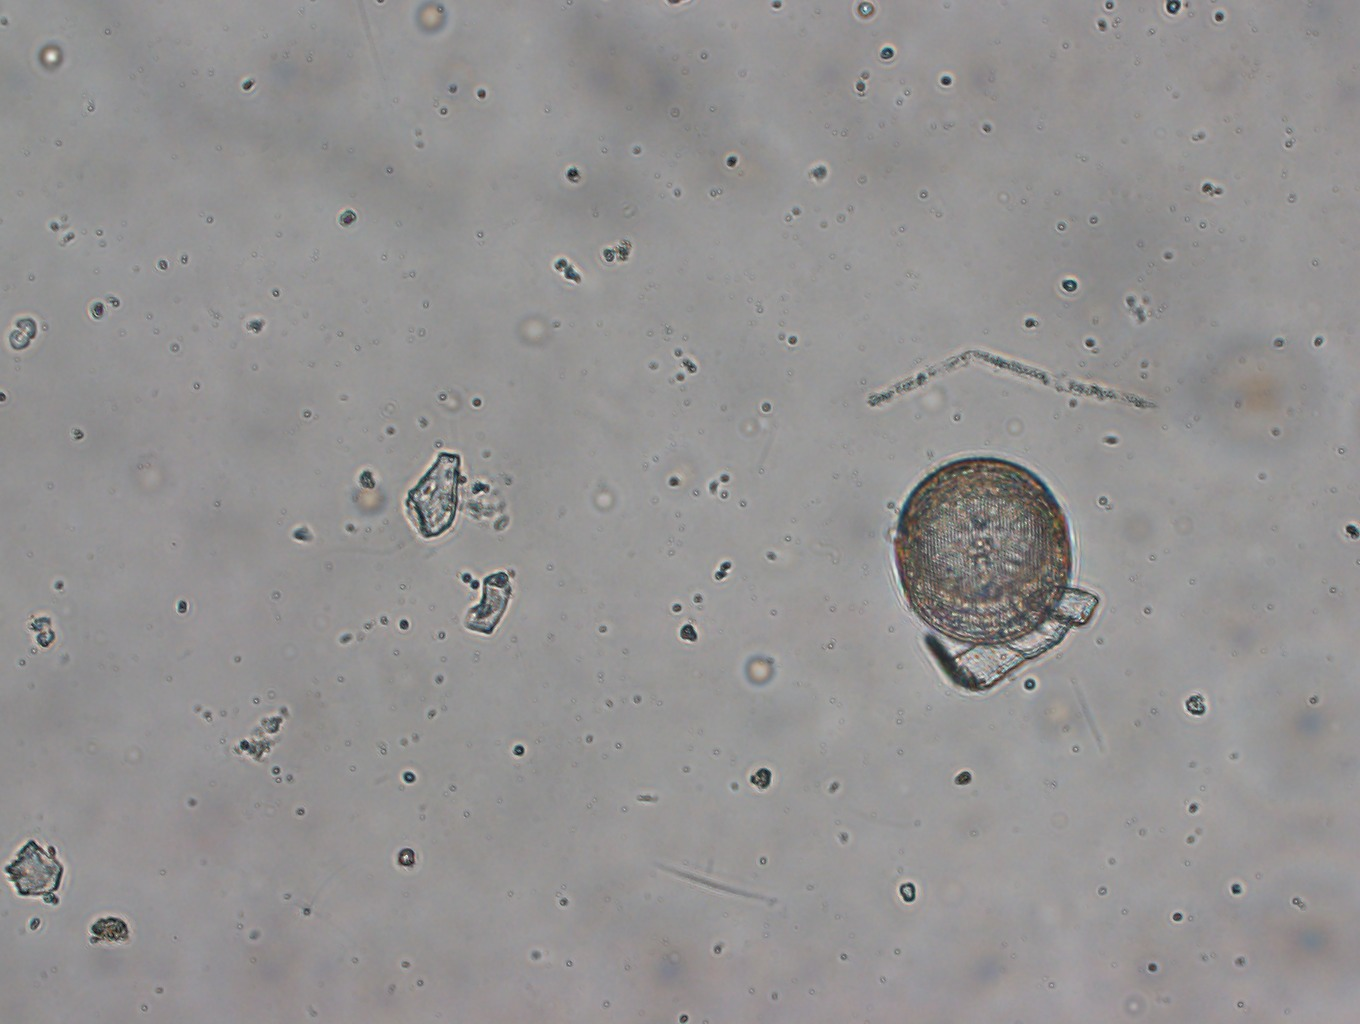coscinodiscus: (891, 455, 1074, 646)
